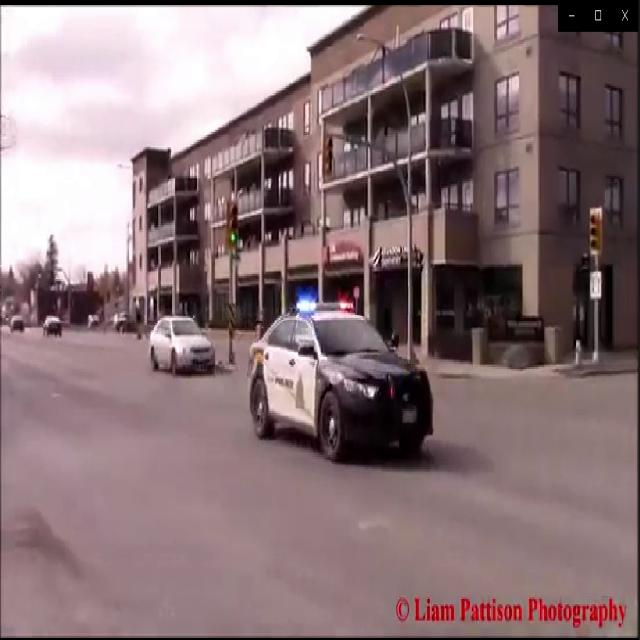emergency: (250, 296, 436, 472)
